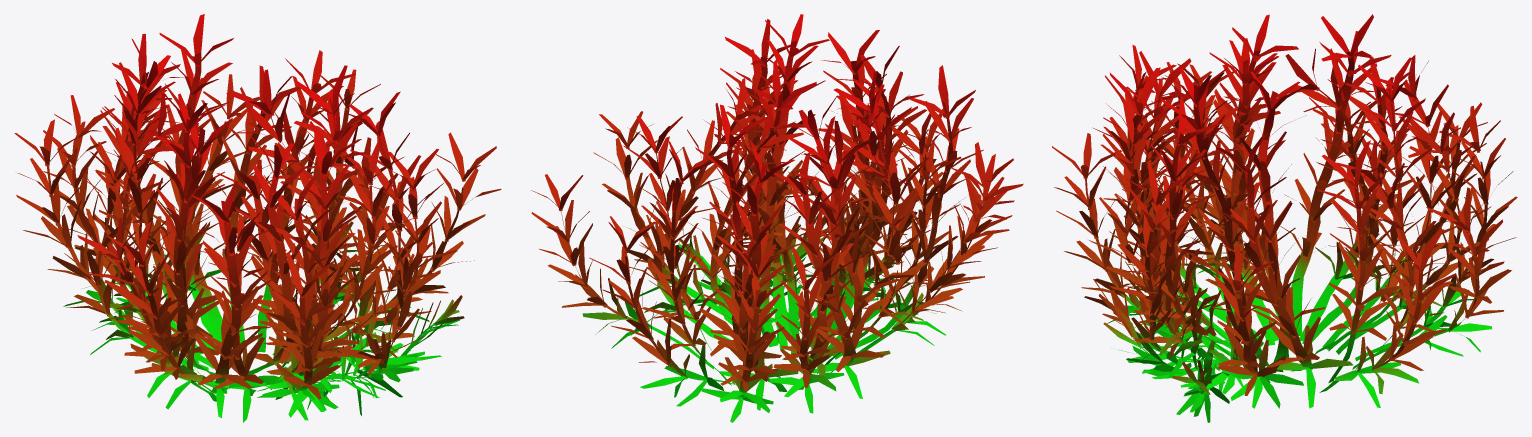
The model's file is Var8_LOD3.fbx.
The picture shows the model from 3 angles, left to right: view 1: azimuth 30°, elevation 25°; view 2: azimuth 150°, elevation 25°; view 3: azimuth 270°, elevation 25°; orthographic projection. The views are drawn at different scales.
Parts seen in each view (by area): view 1: _uysh_Var8_LOD3; view 2: _uysh_Var8_LOD3; view 3: _uysh_Var8_LOD3.
Boxes of the visible parts, bbox=[...] form: _uysh_Var8_LOD3: bbox=[14, 14, 501, 422]; _uysh_Var8_LOD3: bbox=[531, 14, 1023, 422]; _uysh_Var8_LOD3: bbox=[1052, 14, 1517, 422].
Size of the model in its own units: 38.41 by 29.81 by 37.2.
